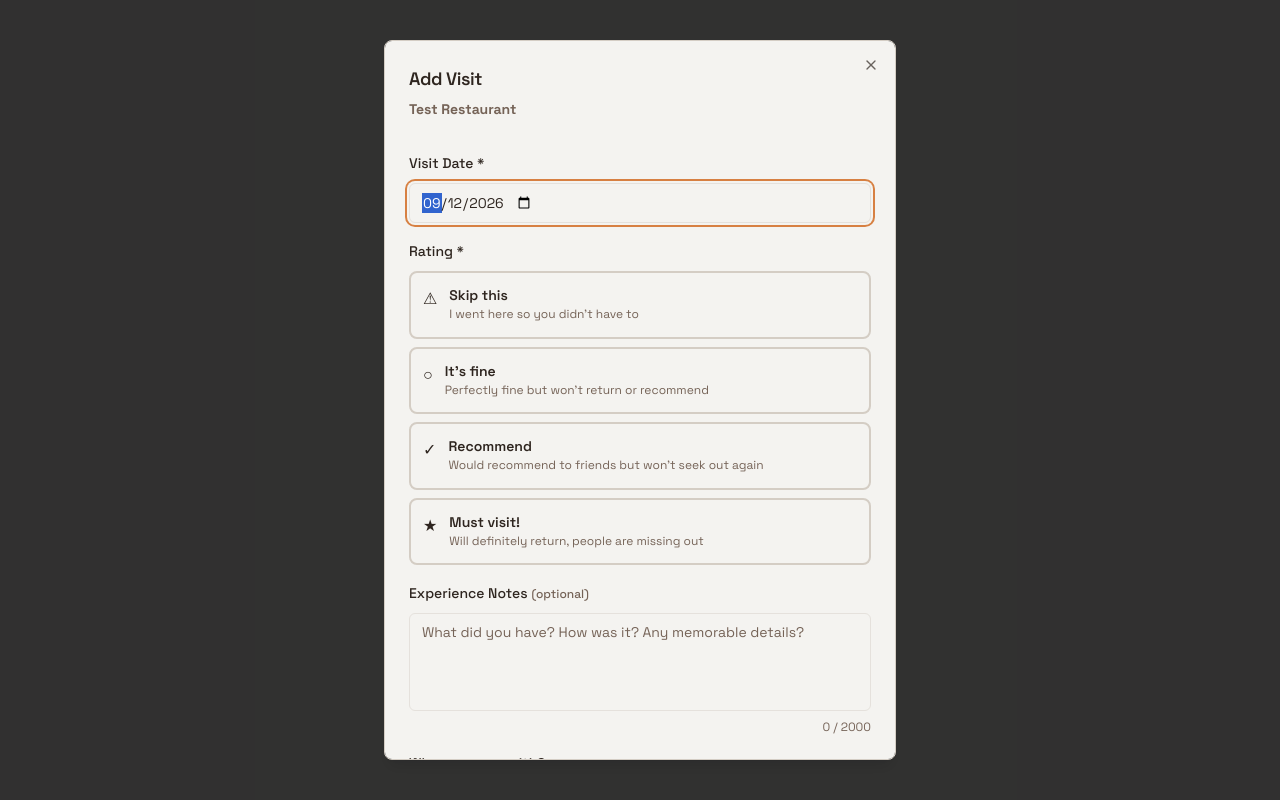
VisitModal › Form Validation › should show error when submitting without date
// Select rating
Click the text "Recommend".
click(490, 446)  # box [448,437,532,455]
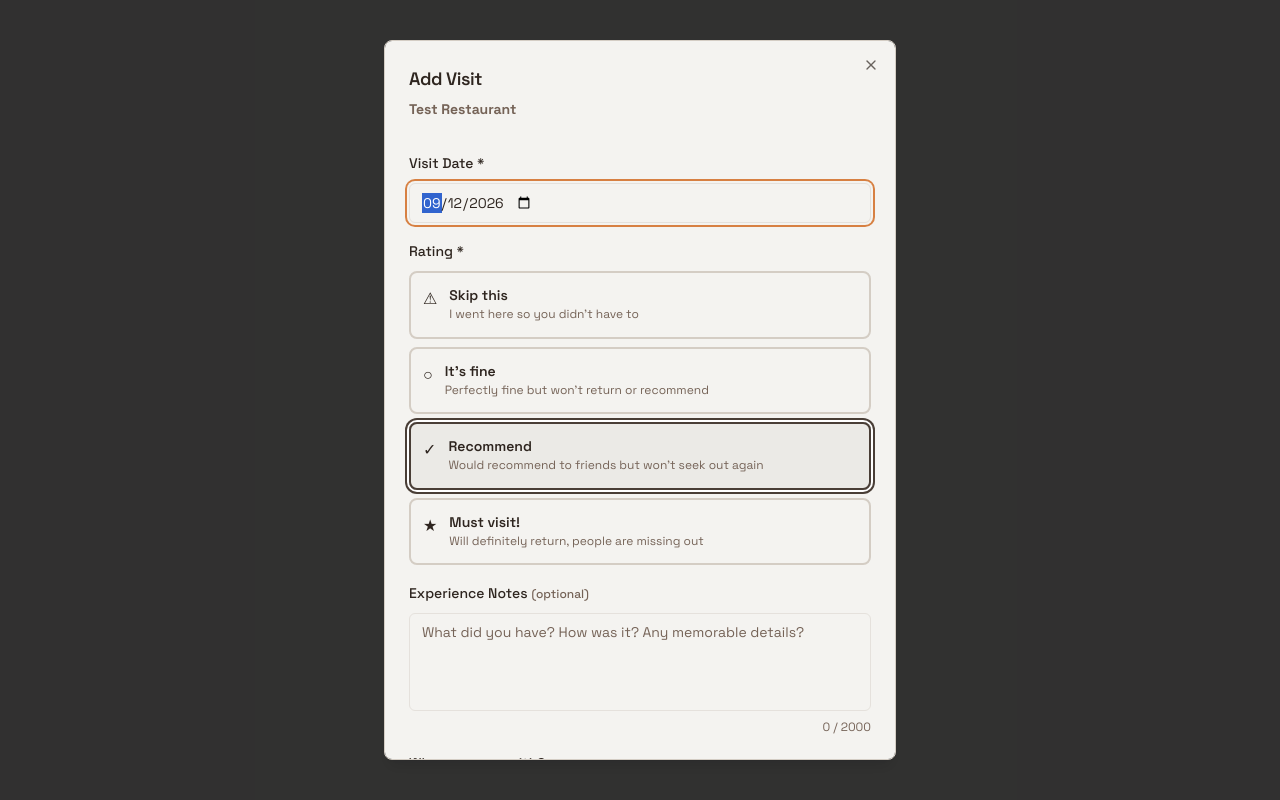
Clear the date field labelled "Visit Date *" at (640, 203), box [409,183,871,223]
(page scrolled)
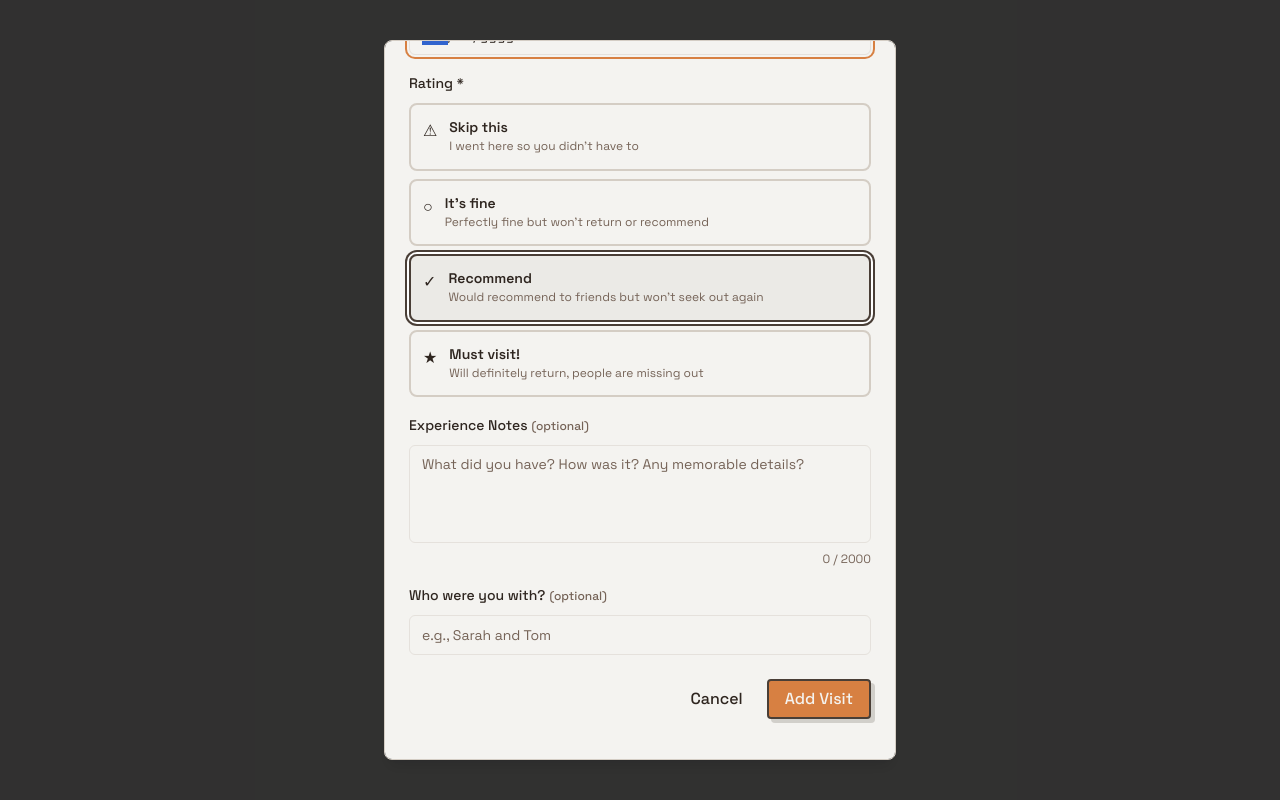
Click the button "Add Visit".
click(819, 699)  # box [767,679,871,719]
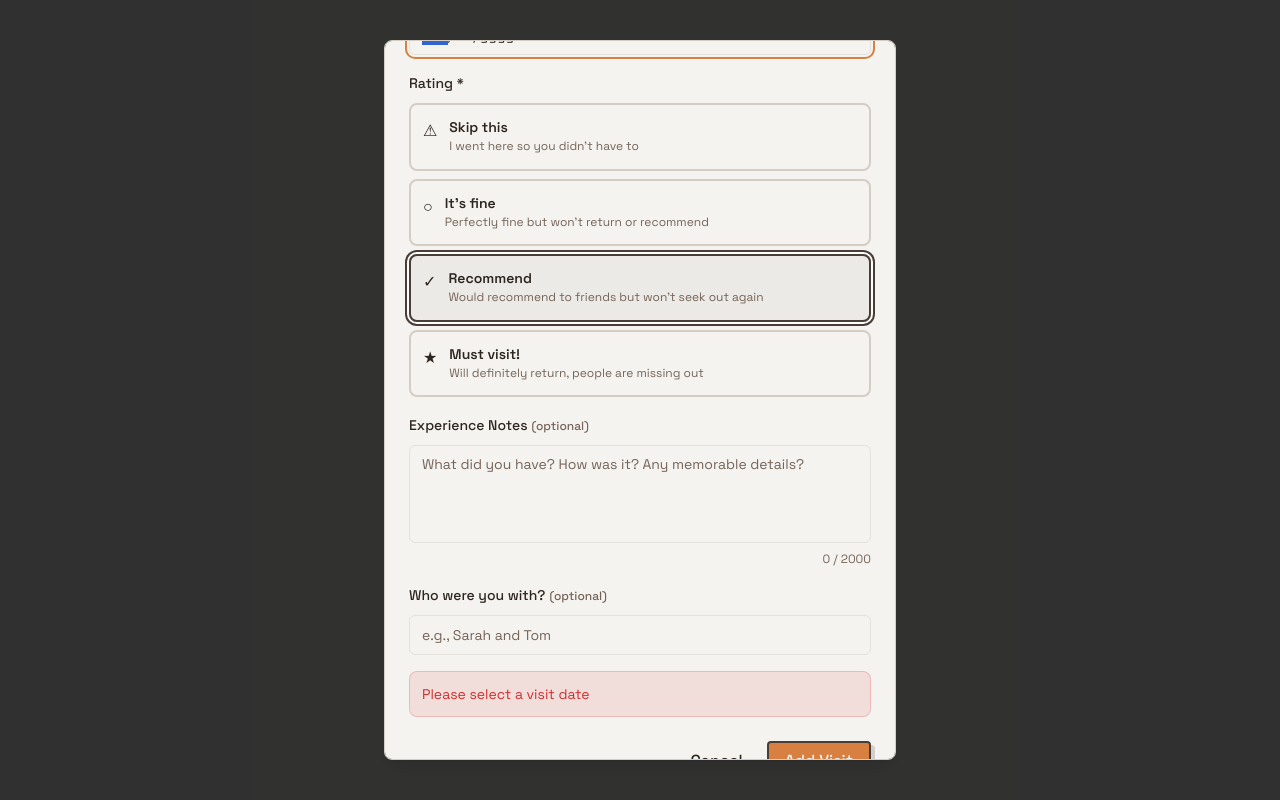
Now the text "Please select a visit date" is shown, box [422,685,590,703]
